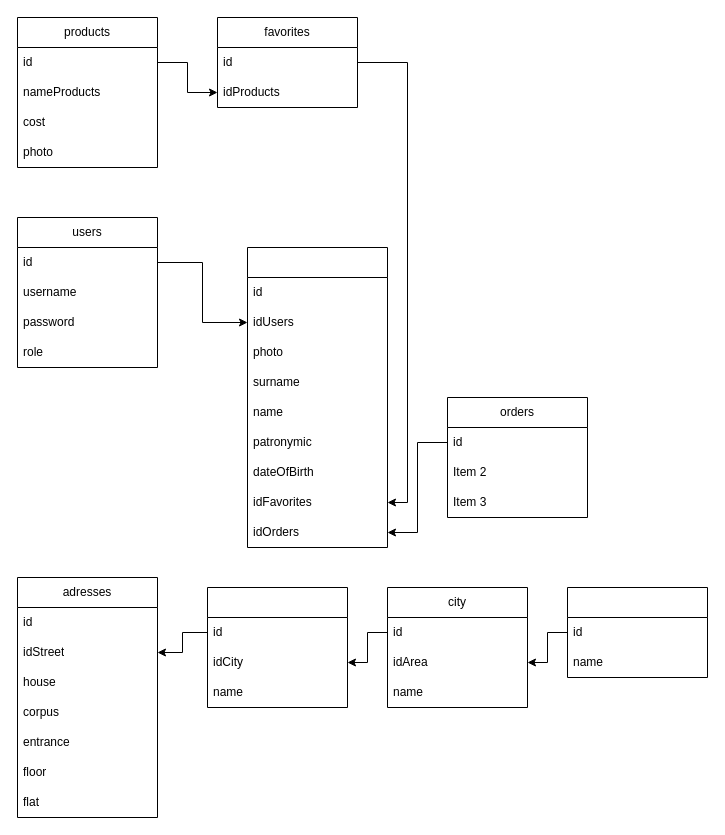
Some shapes in this 725 by 835 pixel diagram are drawn without their labels. The box of each missing label's shape, as (x1, y1, x2, y2) in pixels:
account: (246, 246, 388, 548)
area: (566, 586, 708, 678)
street: (206, 586, 348, 708)
